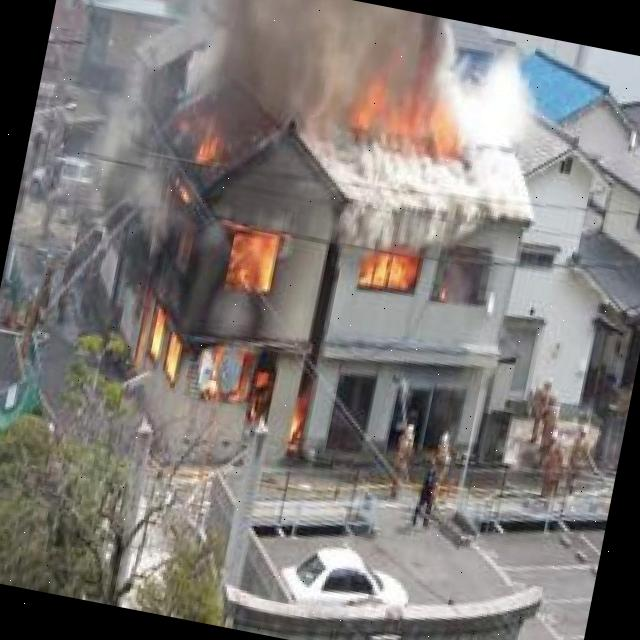fire: (102, 116, 326, 440), (339, 28, 481, 168), (350, 238, 434, 308)
